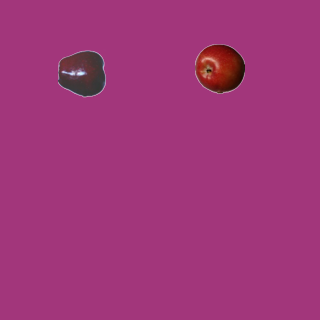Apple Braeburn: (194, 43, 244, 93)
Apple Red Delicious: (57, 48, 107, 98)
